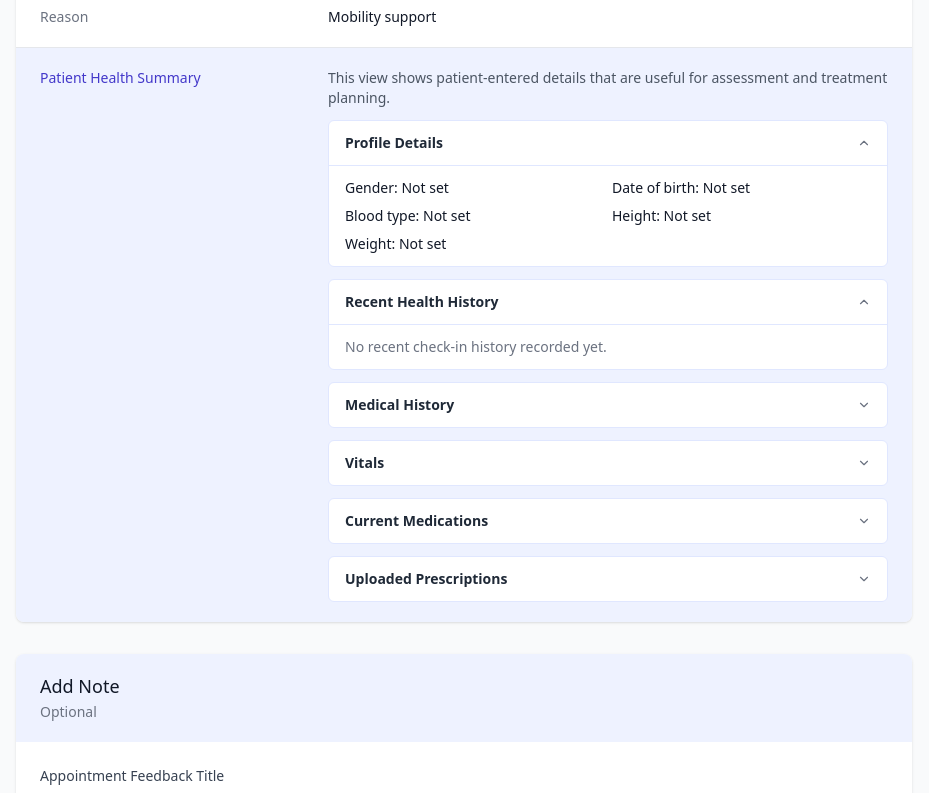
Therapist patient health summary › shows empty states for health summary categories when patient data is missing
(page scrolled)
Expected: the text "No recent check-in history recorded yet." is shown, 345,337 -> 607,356
Click the button "Medical History".
click(400, 404)  # box 329,383 -> 887,427
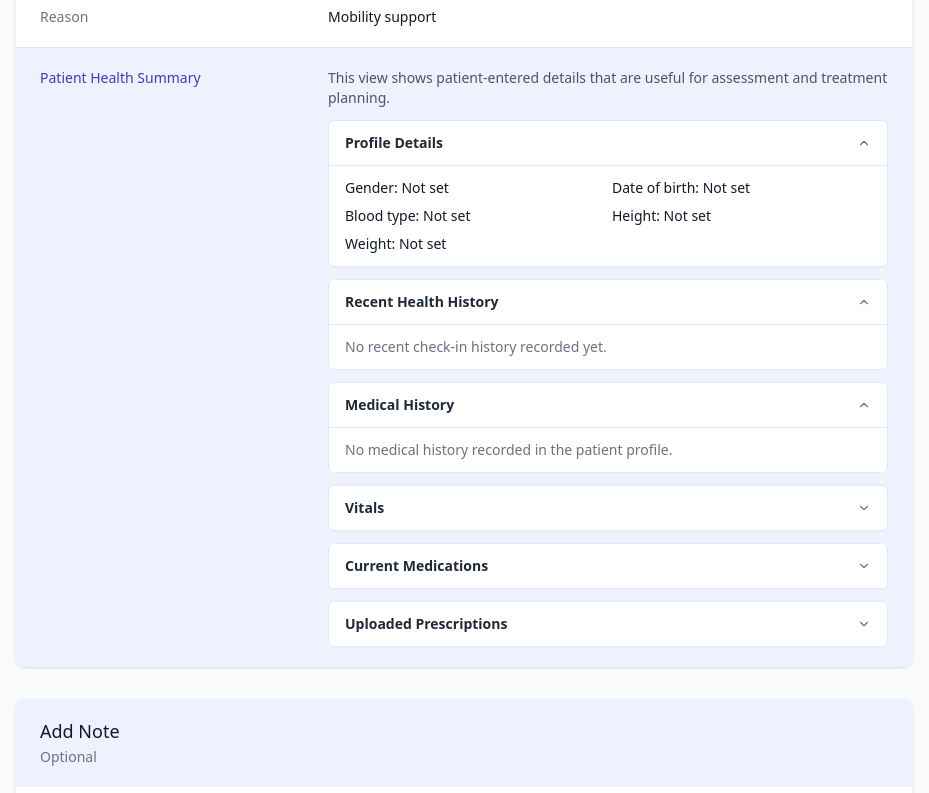
Now the text "No medical history recorded in the patient profile." is shown, box 345,440 -> 672,459
Click the button "Vitals".
click(365, 508)  # box 329,486 -> 887,530
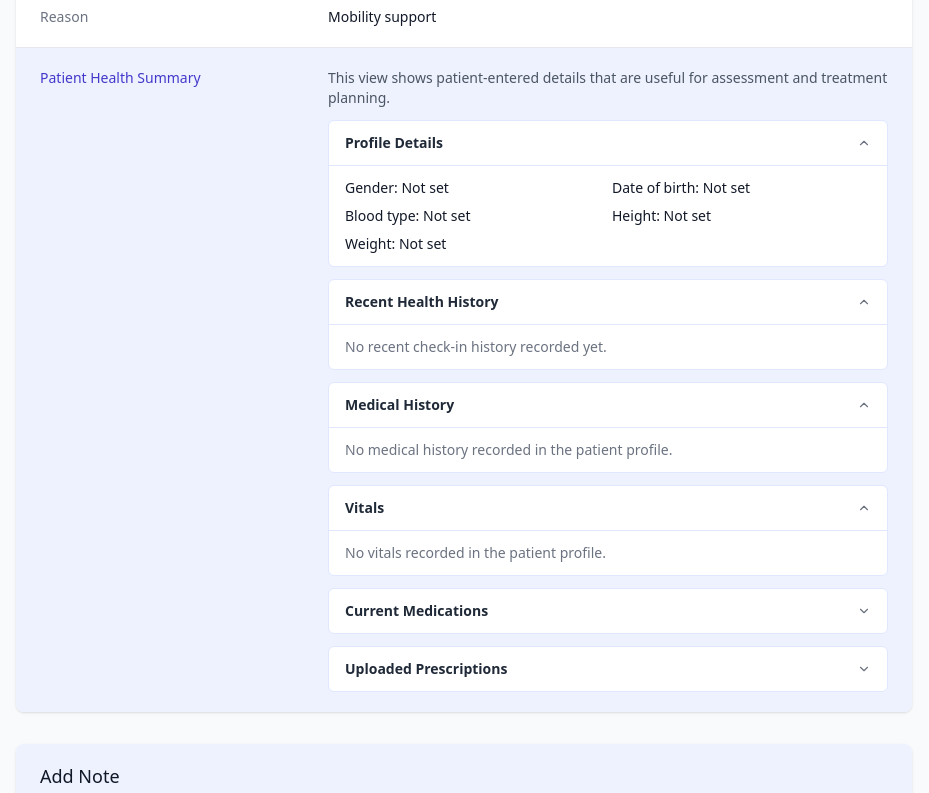
Now the text "No vitals recorded in the patient profile." is shown, box 345,543 -> 606,562
Click the button "Current Medications".
click(417, 610)  # box 329,589 -> 887,633
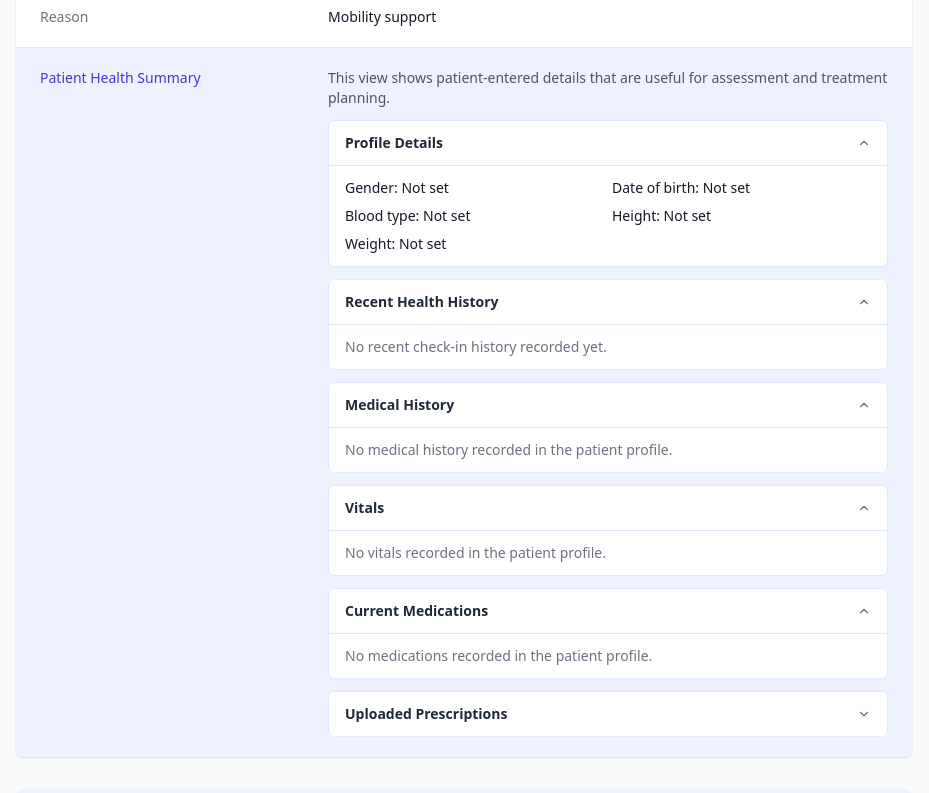
Now the text "No medications recorded in the patient profile." is shown, box 345,646 -> 652,665
Click the button "Uploaded Prescriptions".
click(426, 714)  # box 329,692 -> 887,736
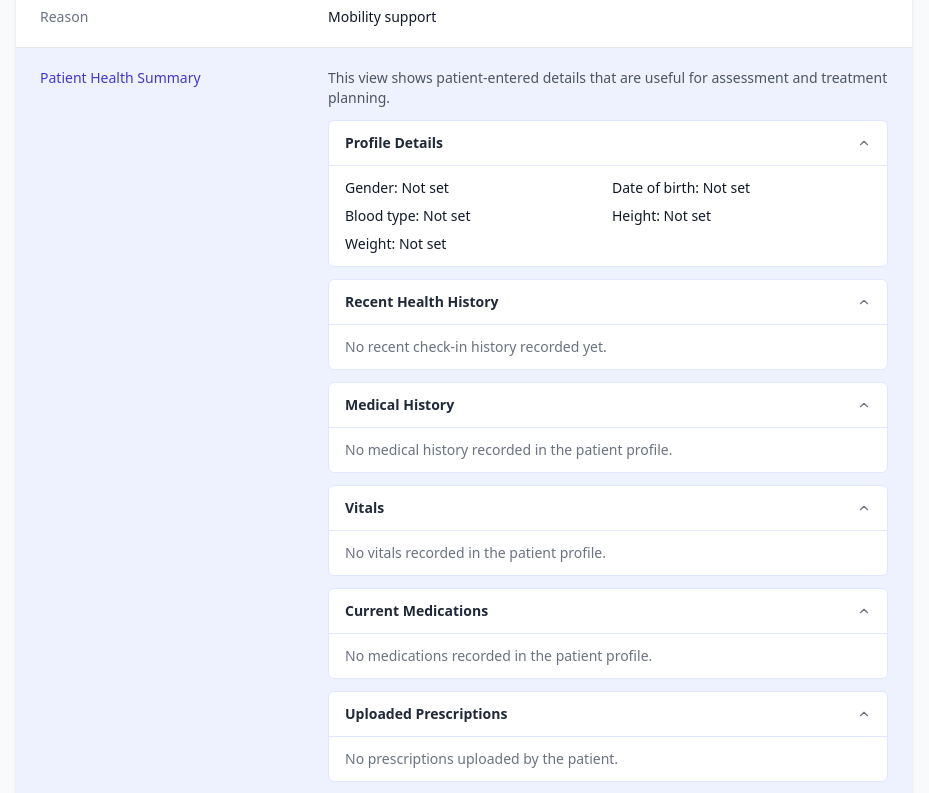
Now the text "No prescriptions uploaded by the patient." is shown, box 345,749 -> 618,768
